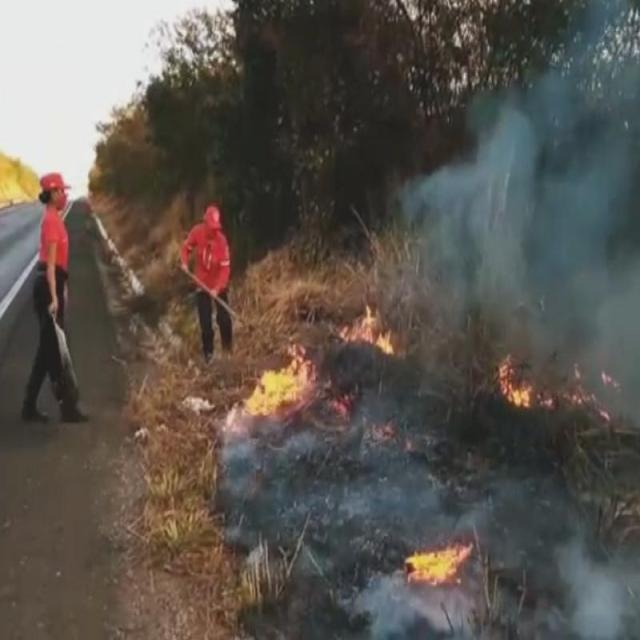Fire: (495, 350, 623, 422), (246, 341, 316, 418), (404, 540, 473, 588), (338, 306, 394, 358)
Smoke: (219, 1, 640, 640)
